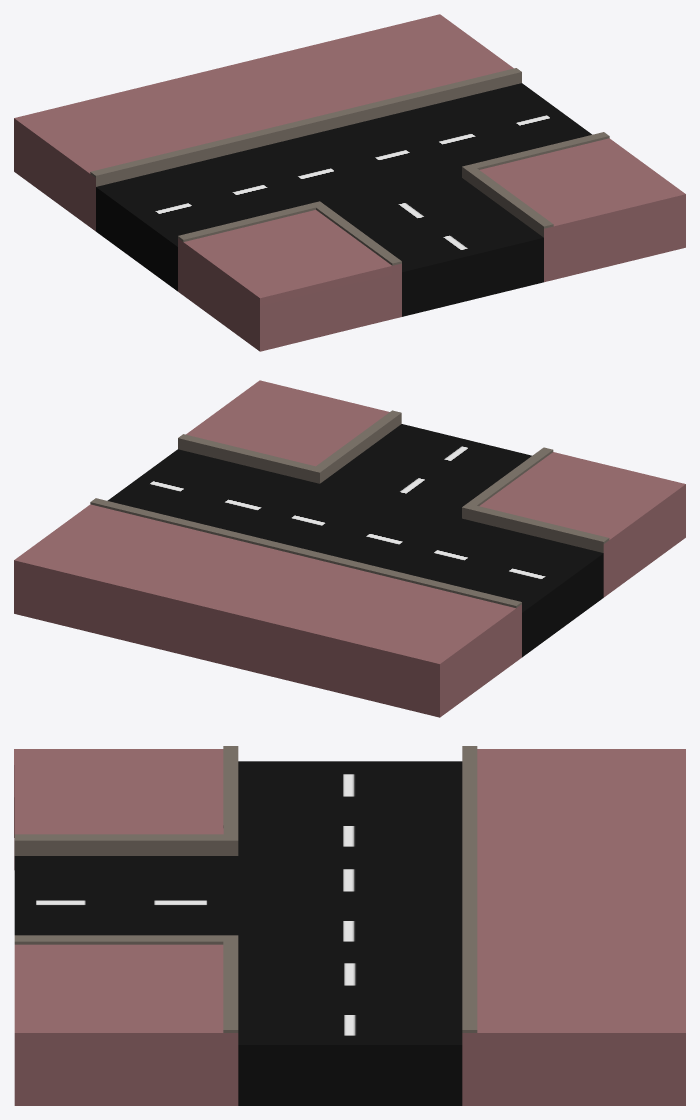
Rendered from M_Road_T.FBX.
3 views of the same model, one above another, from view 1: azimuth 30°, elevation 25°; view 2: azimuth 150°, elevation 25°; view 3: azimuth 270°, elevation 25° (orthographic). The views are drawn at different scales.
Parts seen in each view (by area): view 1: Road_T; view 2: Road_T; view 3: Road_T.
Boxes of the visible parts, x1,y1,x2,y2 form: Road_T: (14,14,685,351); Road_T: (14,380,685,717); Road_T: (14,746,685,1105).
Bounding box in the file's own units: 10 × 10 × 1.25.
